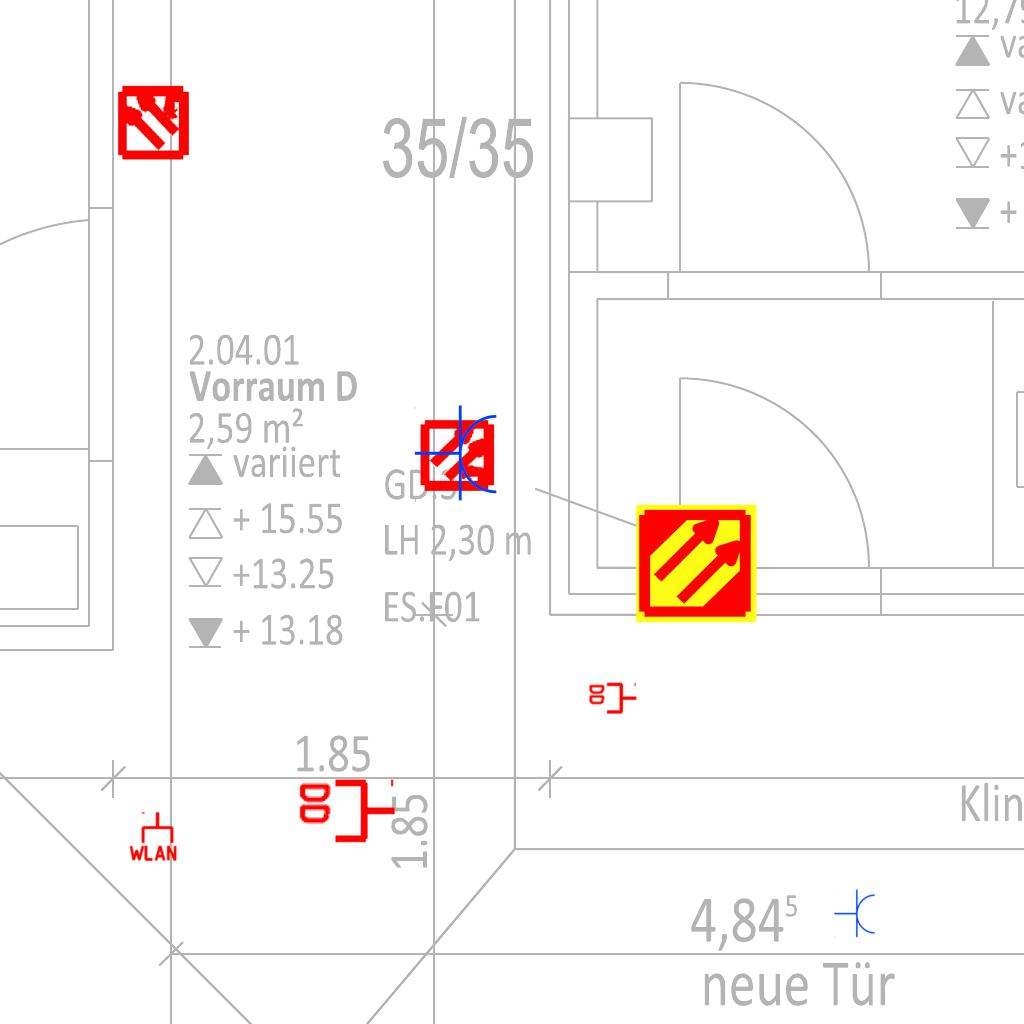ASR_Ansaugrauchmelder: (634, 501, 759, 626)
Datenanschluss_zweifach: (295, 778, 398, 847), (587, 682, 638, 716)
OT_Multisensormelder_(Kombination_RMO_WMD): (97, 64, 210, 177), (403, 399, 516, 512)
Schukosteckdose_einfach: (414, 404, 501, 504), (834, 889, 877, 939)
WLAN: (127, 810, 179, 862)
